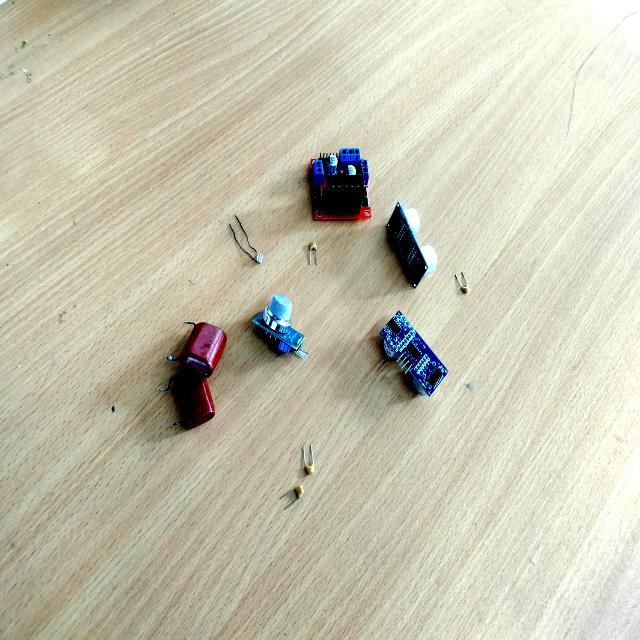capacitor: (168, 368, 215, 430), (188, 322, 226, 365), (293, 487, 301, 498), (309, 242, 317, 251), (304, 466, 311, 475), (460, 287, 467, 294)
